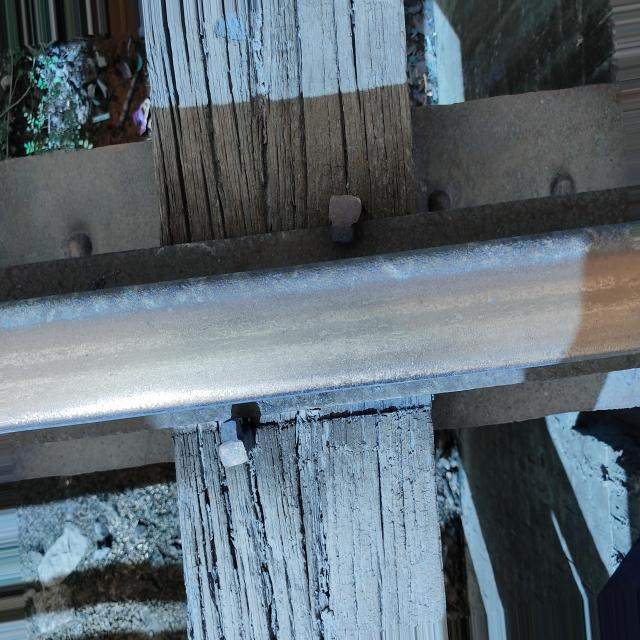Good Fasteners: (329, 195, 361, 226), (219, 441, 248, 467)
